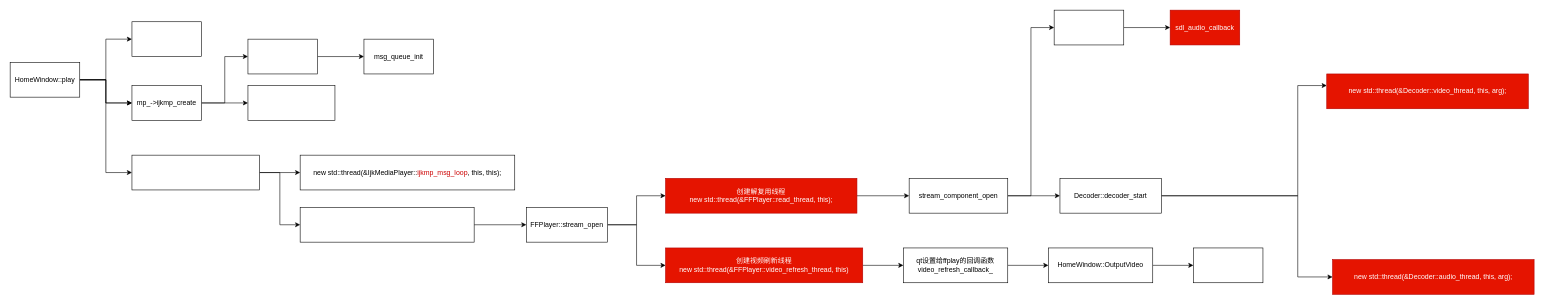
Image size: 1545x305. Some labels were removed from this diagram. The shapes that lost their labels are listed below. From the top down, each one's centre as x and y in pixels, then its label:
At (166,39): "new IjkMediaPlayer()".
At (1089,27): "audio_open".
At (282,56): "new FFPlayer()".
At (291,102): "ffplayer_->ffp_create()".
At (195,172): "mp_->ijkmp_prepare_async".
At (387,224): "FFPlayer::ffp_prepare_async_l".
At (1228,265): "DisplayWind::Draw".
